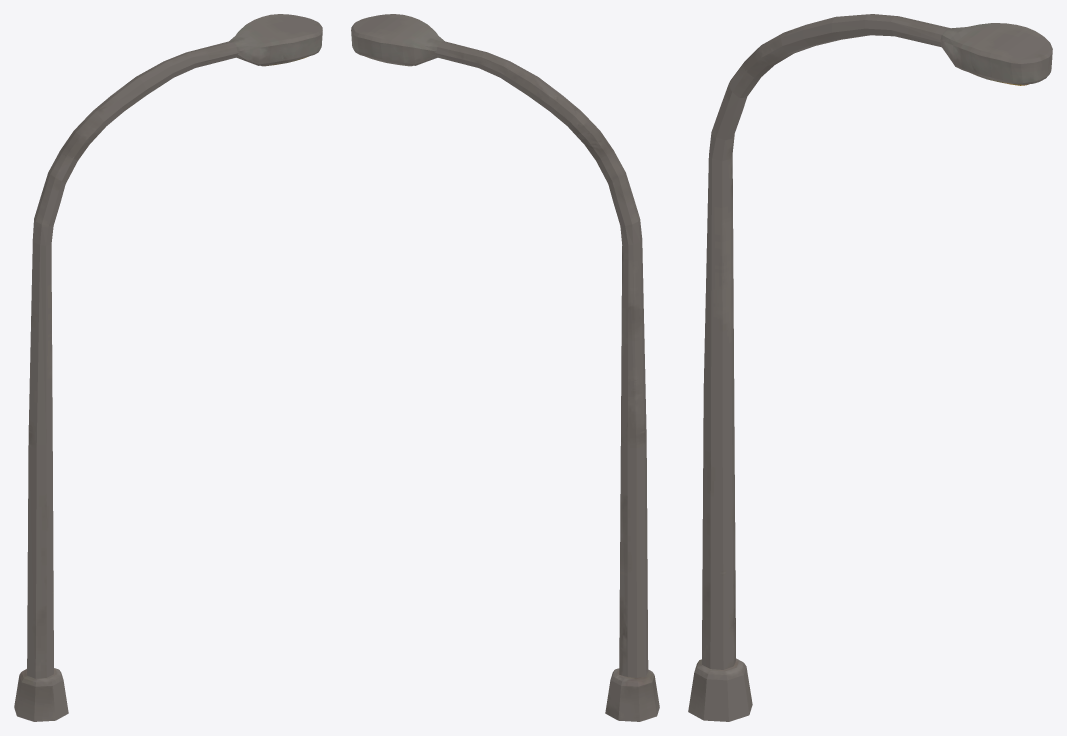
File: strProp_02.glb
3 renders of one model, left to right at view 1: azimuth 30°, elevation 25°; view 2: azimuth 150°, elevation 25°; view 3: azimuth 330°, elevation 25°, orthographic. The views are drawn at different scales.
Parts seen in each view (by area): view 1: geometry_0; view 2: geometry_0; view 3: geometry_0.
Boxes of the visible parts, x1=… form: geometry_0: x1=14, y1=14, x2=322, y2=721; geometry_0: x1=351, y1=14, x2=659, y2=721; geometry_0: x1=688, y1=14, x2=1052, y2=721.
Bounding box in the file's own units: 2.07 × 4.08 × 0.3896.
Materials: 1 (1 with a texture image).
